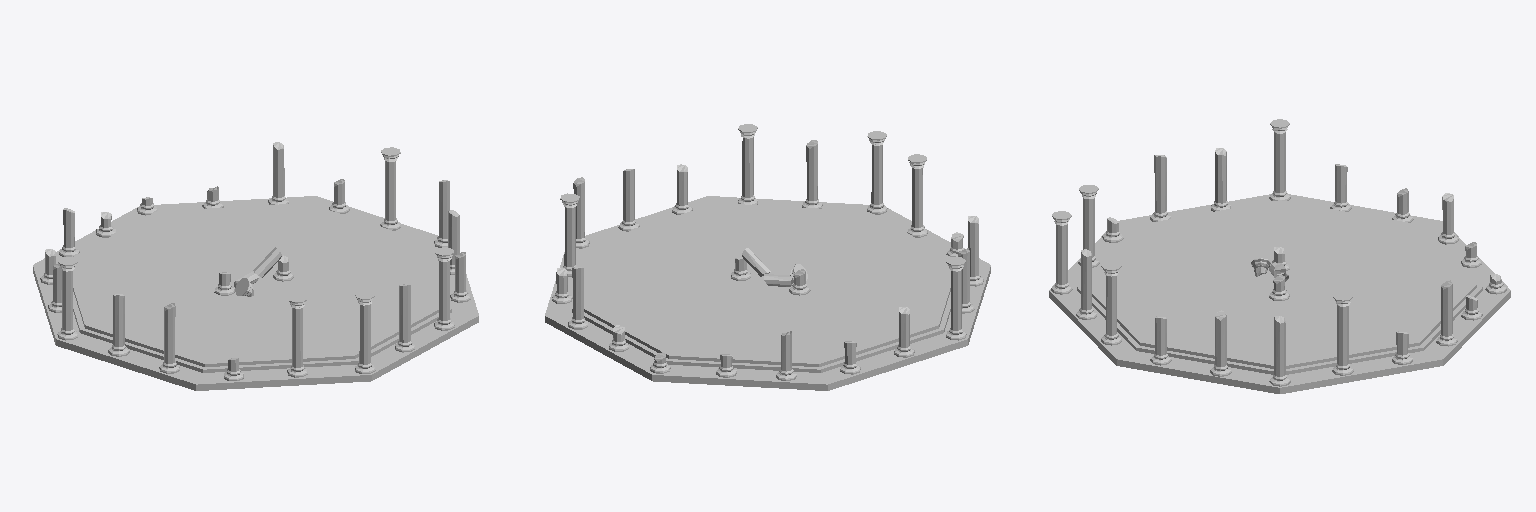
The model's file is Greek.obj.
3 renders of one model, left to right at view 1: azimuth 30°, elevation 25°; view 2: azimuth 150°, elevation 25°; view 3: azimuth 270°, elevation 25°, orthographic.
Visible parts, largest first — view 1: SueloJugable, Suelo, Suelo2, Obstacle_01, Columna_Entera01, Columna_Entera02, Columna_Entera03, Columna_Entera04, Columna_Entera05, Columna_1_02, Columna_1_03, Columna_2_01 (+5 smaller); view 2: SueloJugable, Suelo, Suelo2, Obstacle_01, Columna_Entera02, Columna_Entera01, Columna_Entera04, Columna_Entera03, Columna_Entera05, Columna_1_02, Columna_2_02, Columna_2_03 (+6 smaller); view 3: SueloJugable, Suelo, Suelo2, Columna_Entera05, Columna_Entera01, Columna_Entera04, Columna_Entera02, Obstacle_01, Columna_Entera03, Columna_1_01, Columna_1_03, Columna_2_02 (+6 smaller).
Part boxes in pixels (x1,y1,x2,y2): SueloJugable: (73,203,438,366); Suelo: (33,196,478,390); Suelo2: (72,212,451,372); Obstacle_01: (214,247,293,296); Columna_Entera01: (355,291,375,373); Columna_Entera02: (434,247,454,330); Columna_Entera03: (287,294,307,377); Columna_Entera04: (57,257,77,340); Columna_Entera05: (380,147,400,230); Columna_1_02: (395,284,414,352); Columna_1_03: (159,303,179,373); Columna_2_01: (108,294,129,356); SueloJugable: (584,203,950,366); Suelo: (545,196,990,390); Suelo2: (572,212,951,372); Obstacle_01: (731,248,810,295); Columna_Entera02: (738,124,757,204); Columna_Entera01: (867,131,887,214); Columna_Entera04: (946,257,966,340); Columna_Entera03: (907,154,927,237); Columna_Entera05: (560,193,579,276); Columna_1_02: (802,140,822,208); Columna_2_02: (618,169,639,231); Columna_2_03: (568,267,587,329); SueloJugable: (1092,200,1476,368); Suelo: (1049,194,1510,393); Suelo2: (1077,226,1482,374); Columna_Entera05: (1332,292,1353,375); Columna_Entera01: (1051,211,1072,294); Columna_Entera04: (1269,119,1290,200); Columna_Entera02: (1101,262,1121,345); Obstacle_01: (1251,247,1289,300); Columna_Entera03: (1078,185,1099,267); Columna_1_01: (1269,316,1290,386); Columna_1_03: (1150,155,1170,221); Columna_2_02: (1210,310,1231,376).
Bounding box in the file's own units: 156 × 30.42 × 156.